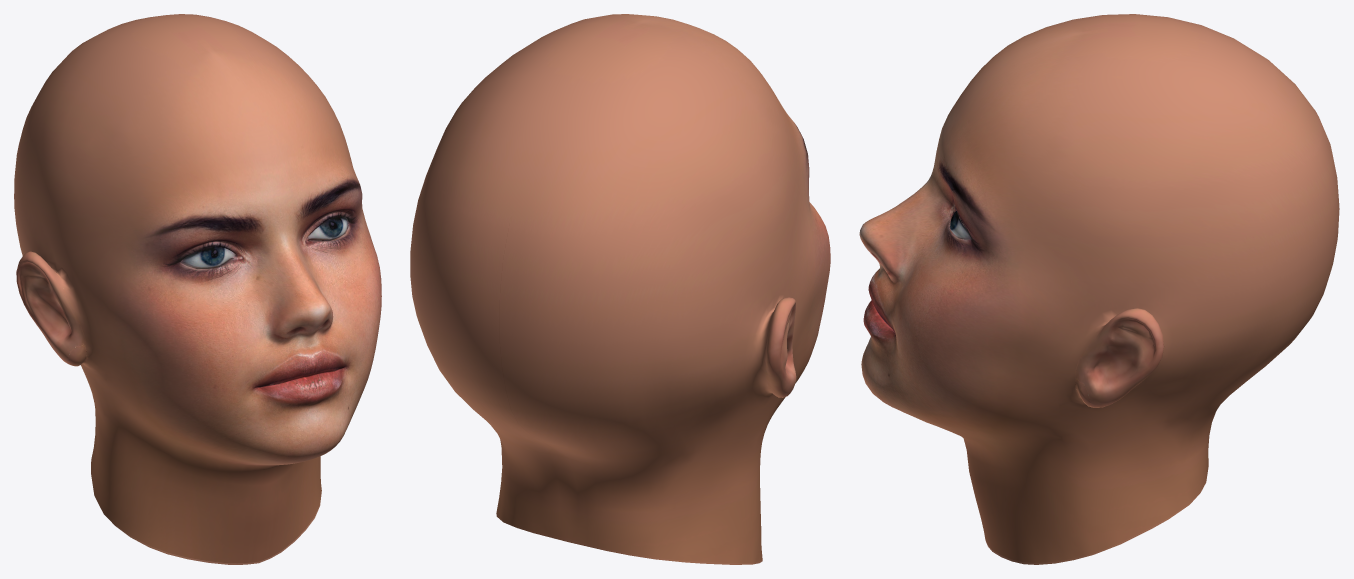
Rendered from main.obj.
The picture shows the model from 3 angles, left to right: view 1: azimuth 30°, elevation 25°; view 2: azimuth 150°, elevation 25°; view 3: azimuth 270°, elevation 25°; orthographic projection. The views are drawn at different scales.
Parts seen in each view (by area): view 1: ModelsFace; view 2: ModelsFace; view 3: ModelsFace.
Part boxes in pixels (x1,y1,x2,y2): ModelsFace: [14, 14, 381, 564]; ModelsFace: [410, 14, 830, 564]; ModelsFace: [859, 14, 1339, 564].
Size of the model in its own units: 0.7242 by 1.03 by 0.8811.
